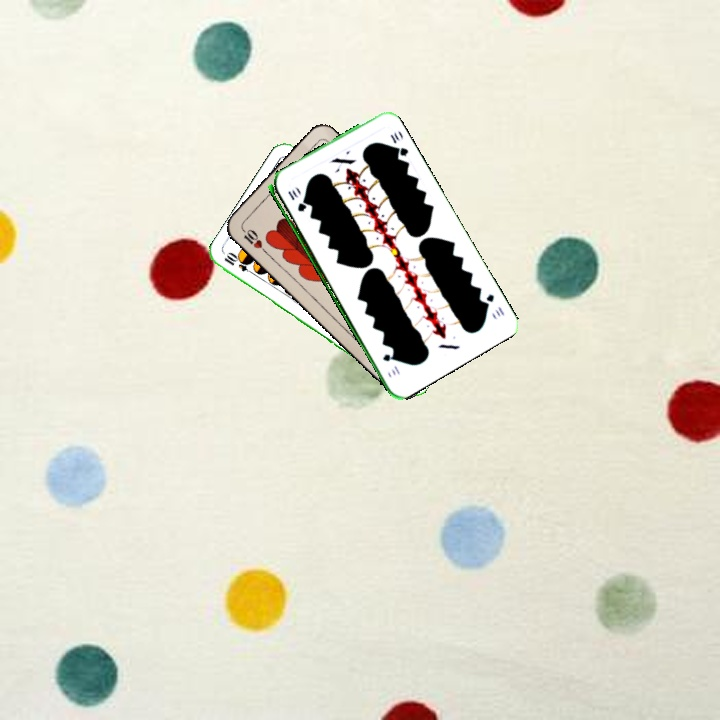E10: (220, 250, 258, 278)
G10: (479, 290, 507, 319), (284, 187, 307, 215)
H10: (237, 224, 269, 256)
